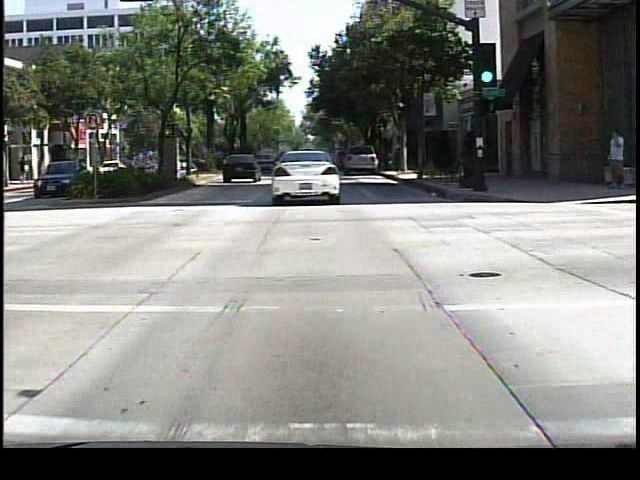person: (602, 124, 625, 195), (17, 152, 34, 186)
